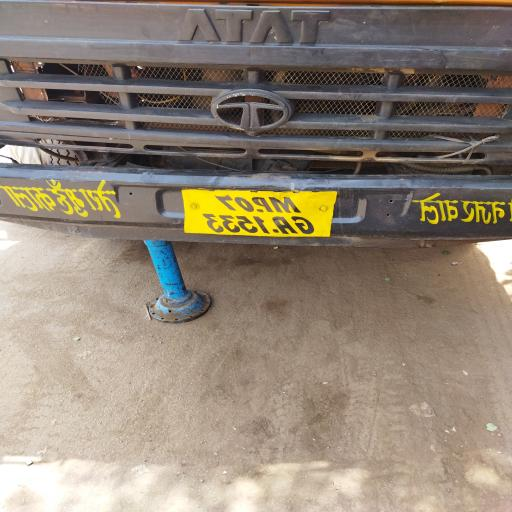License: (179, 185, 337, 244)
